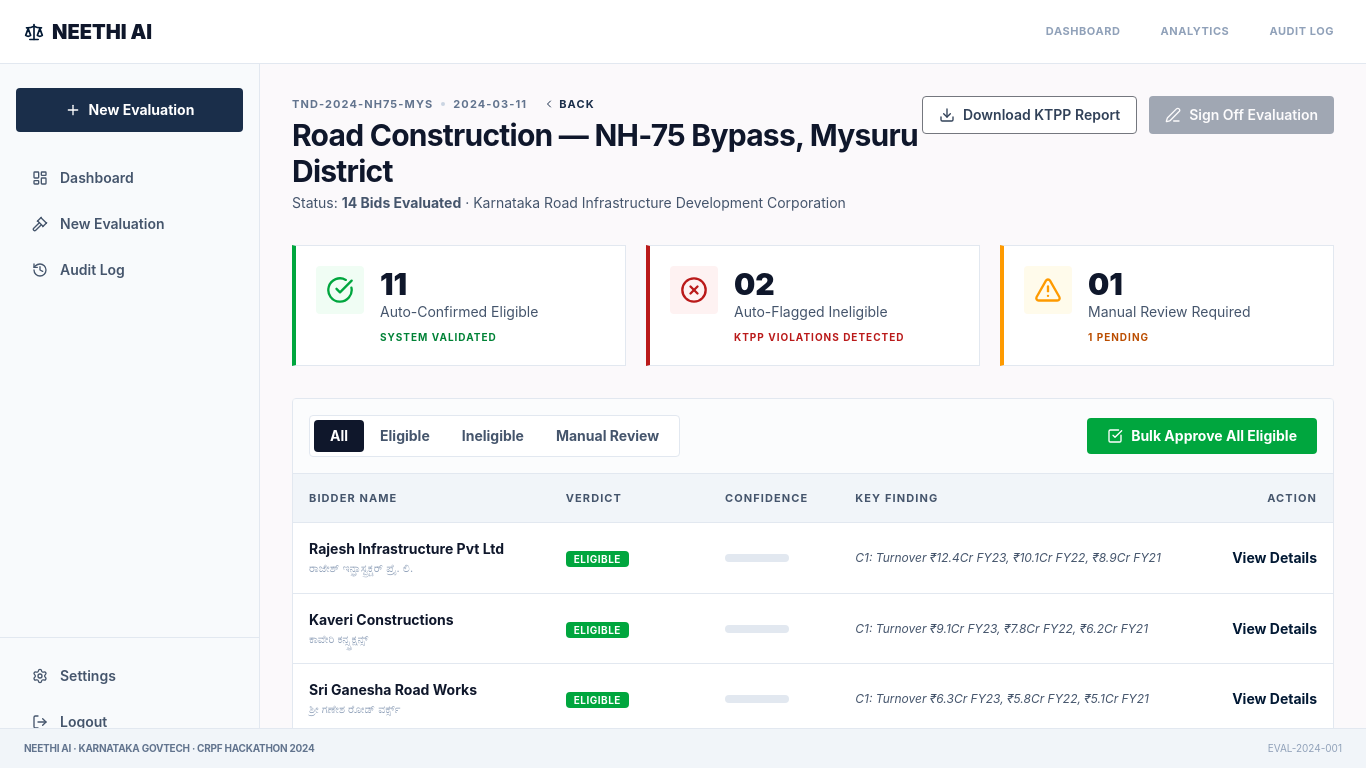
VerdictDashboard — mockData mode › filter Ineligible shows 2 of 14 bidders
The width and height of the screenshot is (1366, 768).
Click the button "Ineligible" at (493, 436), box [446,420,540,452]
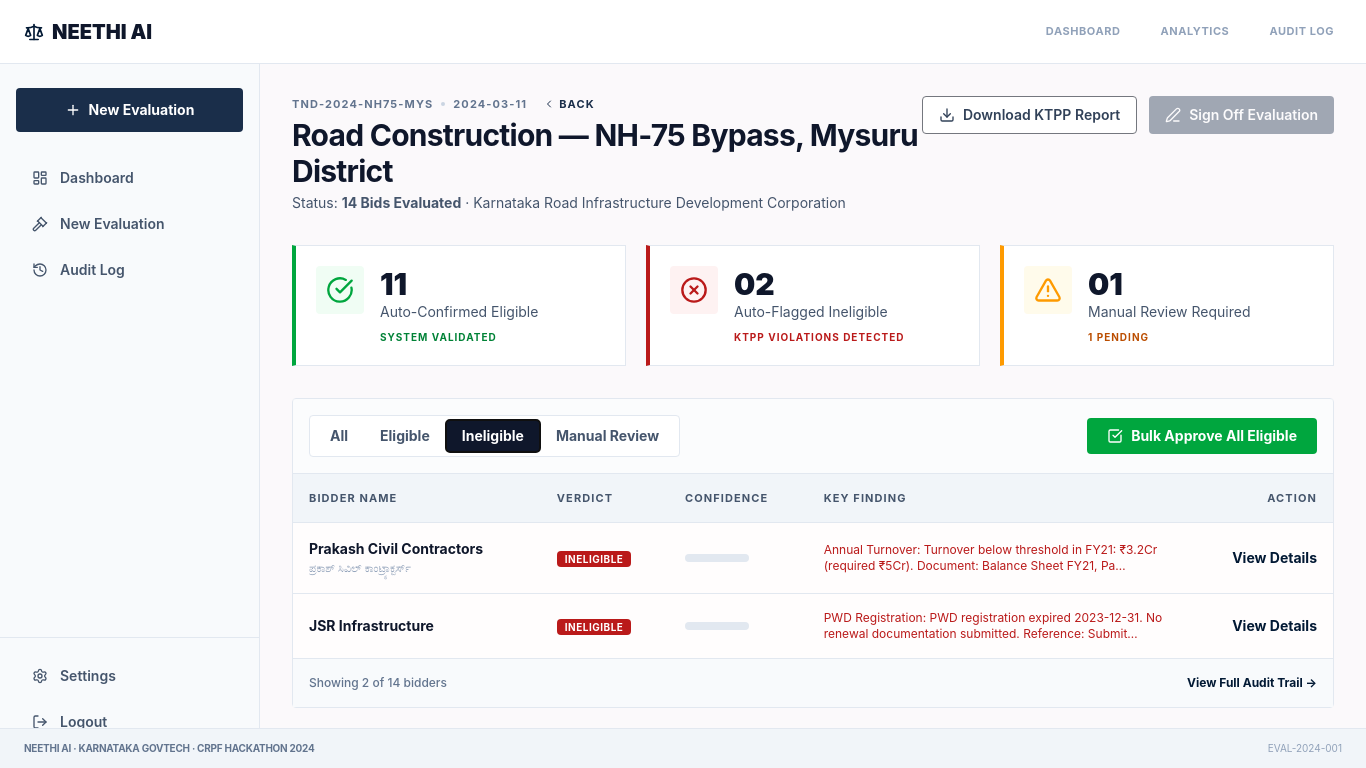
Now the text "Showing 2 of 14 bidders" is shown, box [309,675,447,691]
